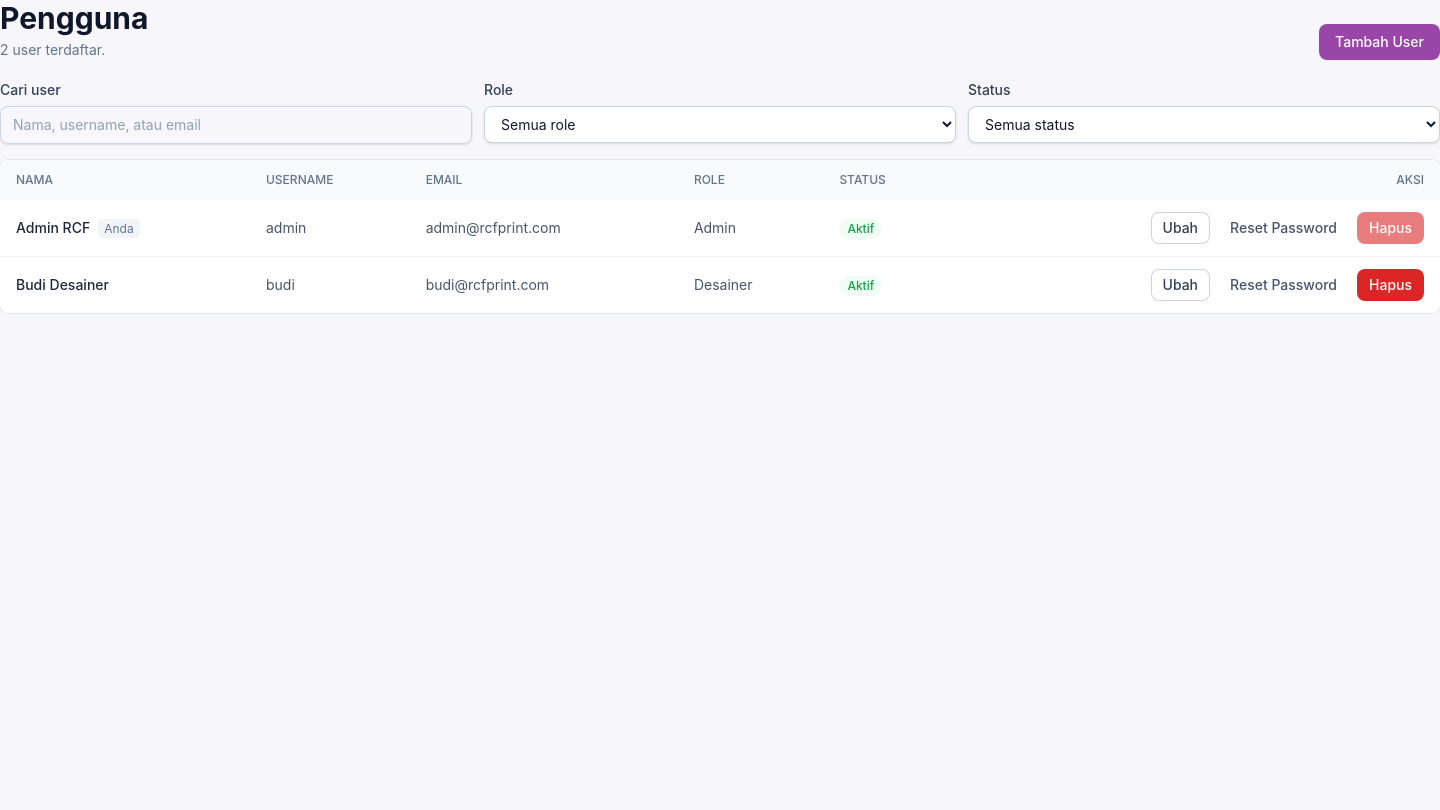
Test case: UserListPage — ubah user › tombol simpan mati sebelum ada perubahan
Check: the text "Budi Desainer" is shown, box [0,256,250,313]
Step 1. Click the button with aria-label "ubah budi desainer" → point(1180, 285), box [1150,269,1210,301]
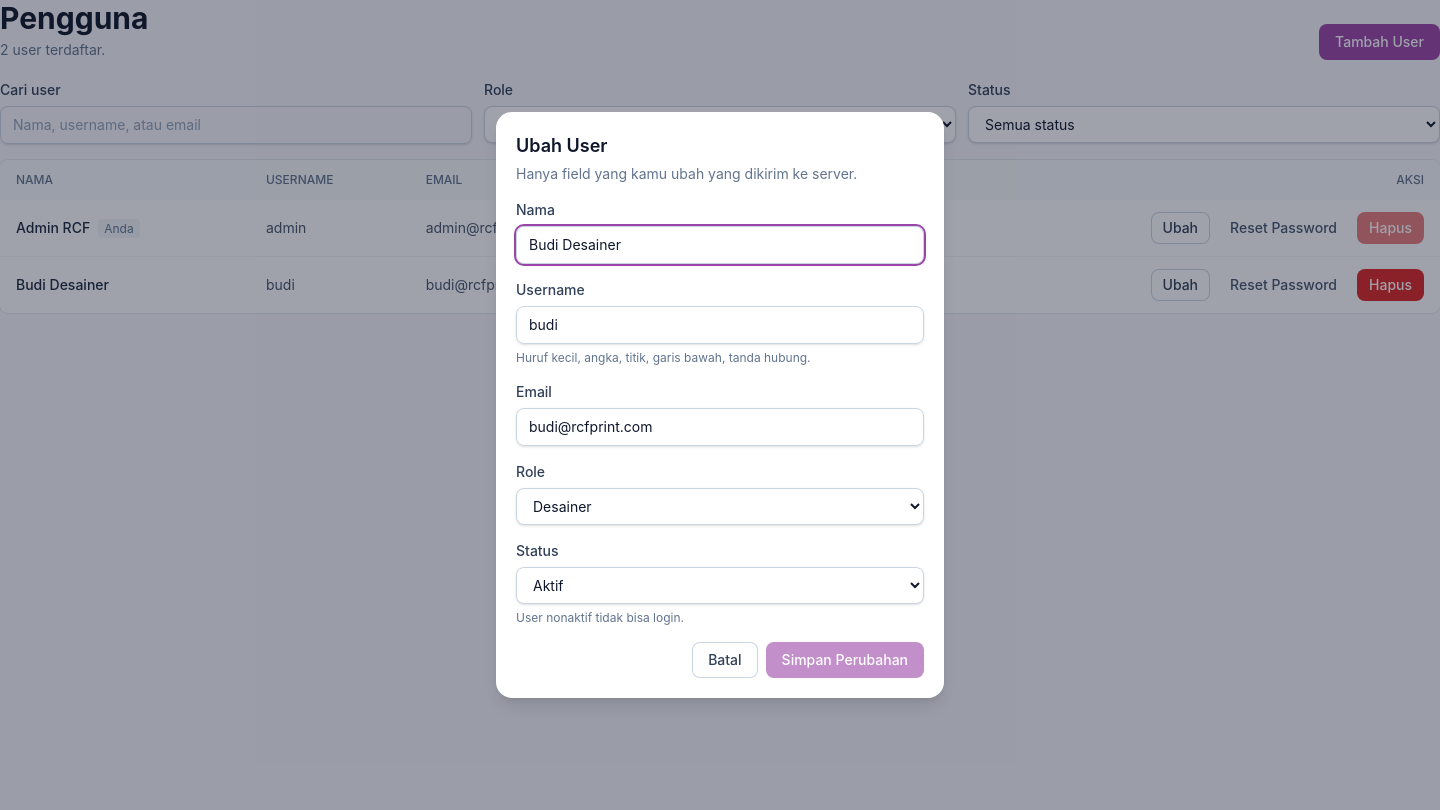
Check: the field labelled "Username" is shown, box [516,306,924,344]
Check: the button "Simpan Perubahan" is disabled, box [766,642,924,678]
